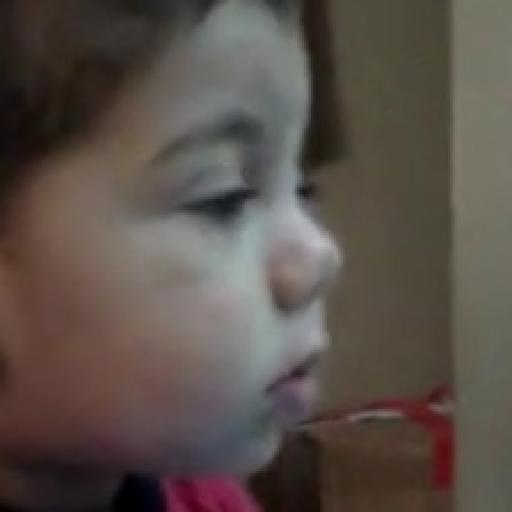Autism: (20, 7, 418, 476)
